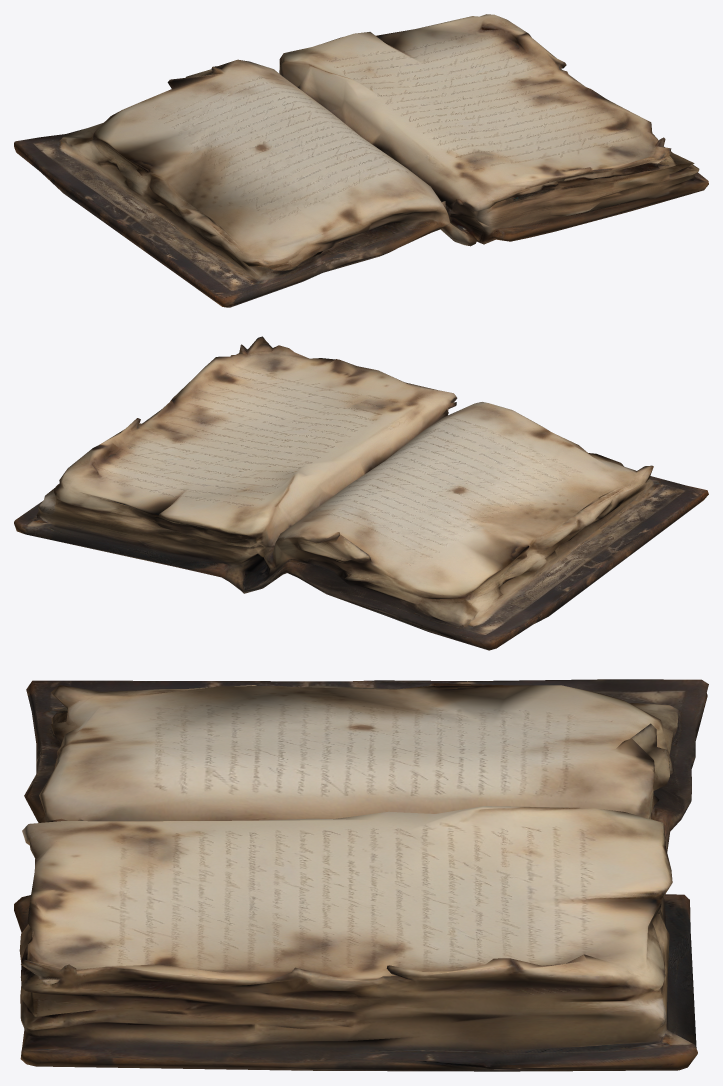
File: OpenBook (2).fbx
3 renders of one model, top to bottom at view 1: azimuth 30°, elevation 25°; view 2: azimuth 150°, elevation 25°; view 3: azimuth 270°, elevation 25°, orthographic. The views are drawn at different scales.
Visible parts, largest first — view 1: Mesh_0; view 2: Mesh_0; view 3: Mesh_0.
Boxes of the visible parts, left/top/right/bottom form: Mesh_0: left=14, top=14, right=708, bottom=307; Mesh_0: left=14, top=336, right=708, bottom=650; Mesh_0: left=14, top=679, right=708, bottom=1071.
Size of the model in its own units: 200 by 28.87 by 154.
Materials: 1 (1 with a texture image).
